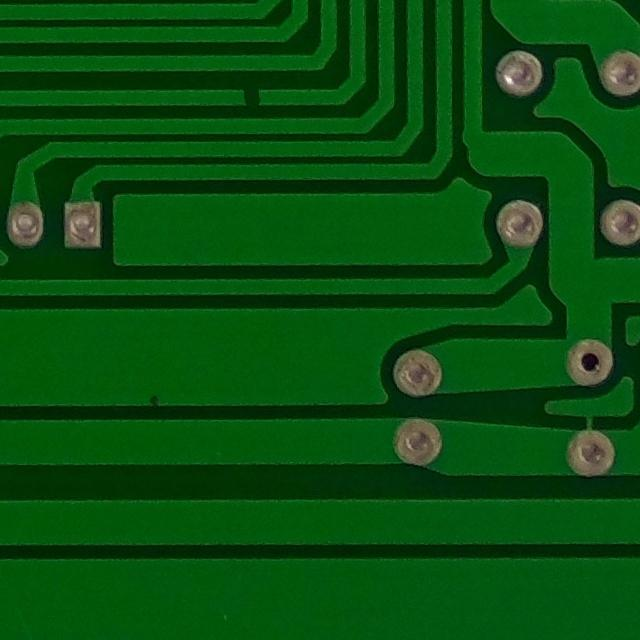open_circuit: (230, 81, 271, 114)
